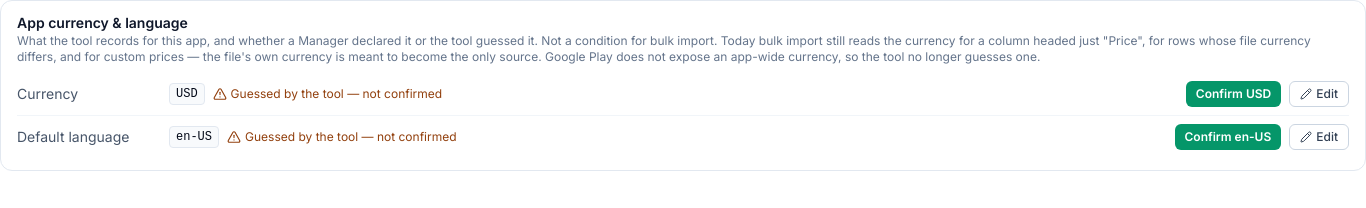
Test: AppDefaultsCard — confirm / set › value changed since the page loaded (409) ⇒ the server's reload message, state kept
Click the button "Confirm USD" at (1234, 94), box [1186,81,1281,107]
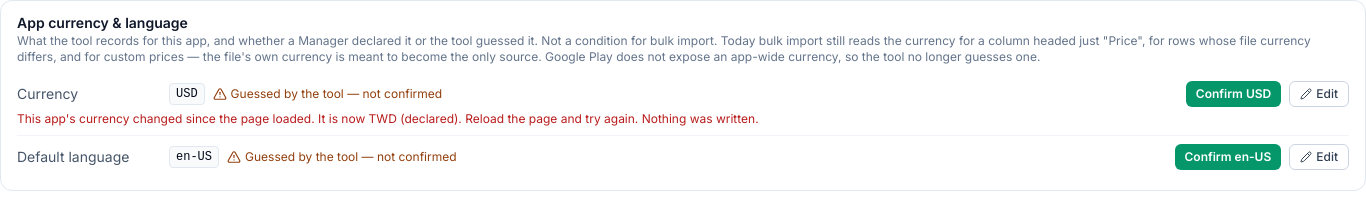
Result: the text "It is now TWD (declared)" is shown at [17,111,759,126]
